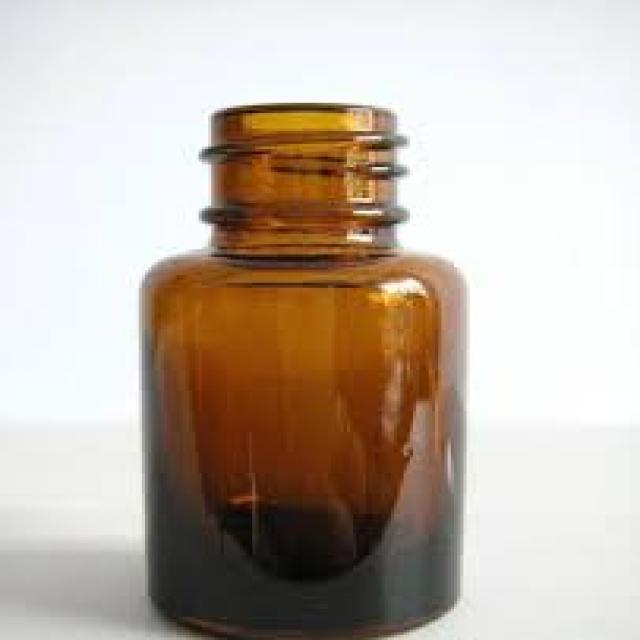glass: (139, 106, 463, 638)
